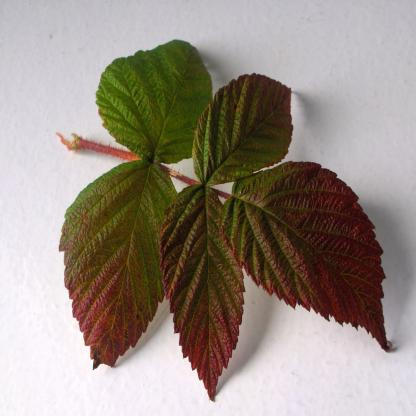Raspberry leaf: (219, 158, 393, 355), (59, 158, 184, 373), (159, 185, 245, 401), (96, 32, 213, 161), (193, 69, 296, 186)
